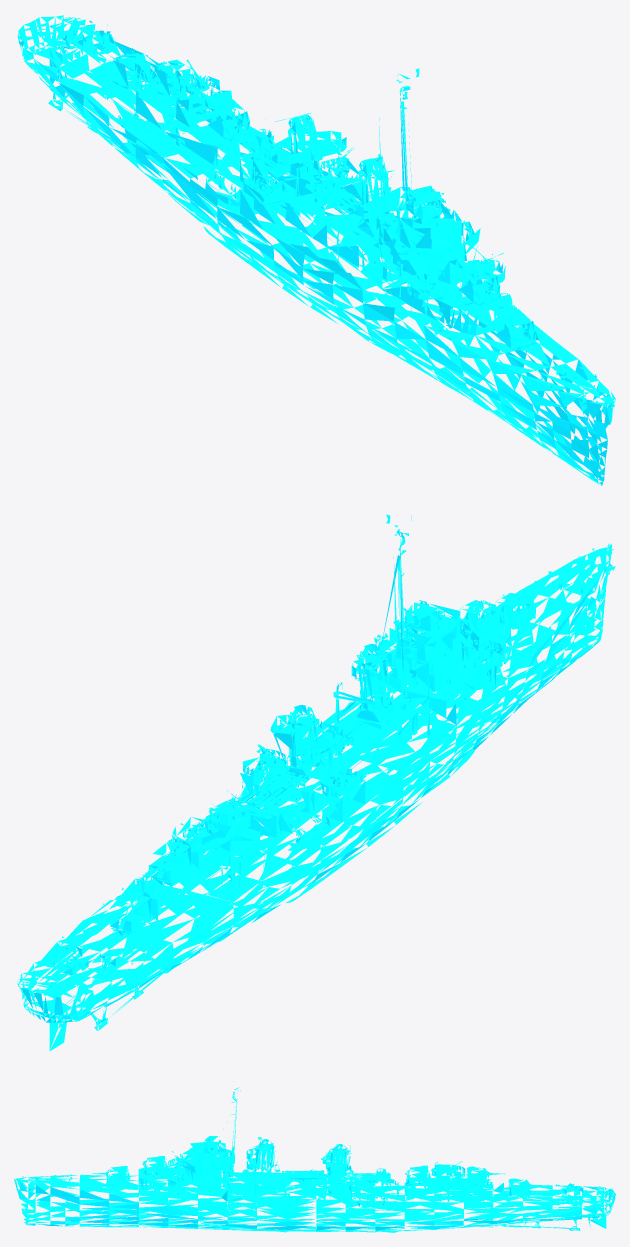
Rendered from FBO_Johnston.glb.
3 views of the same model, one above another, from view 1: azimuth 30°, elevation 25°; view 2: azimuth 150°, elevation 25°; view 3: azimuth 270°, elevation 25° (orthographic). The views are drawn at different scales.
Size of the model in its own units: 0.8045 by 2.06 by 7.63.
